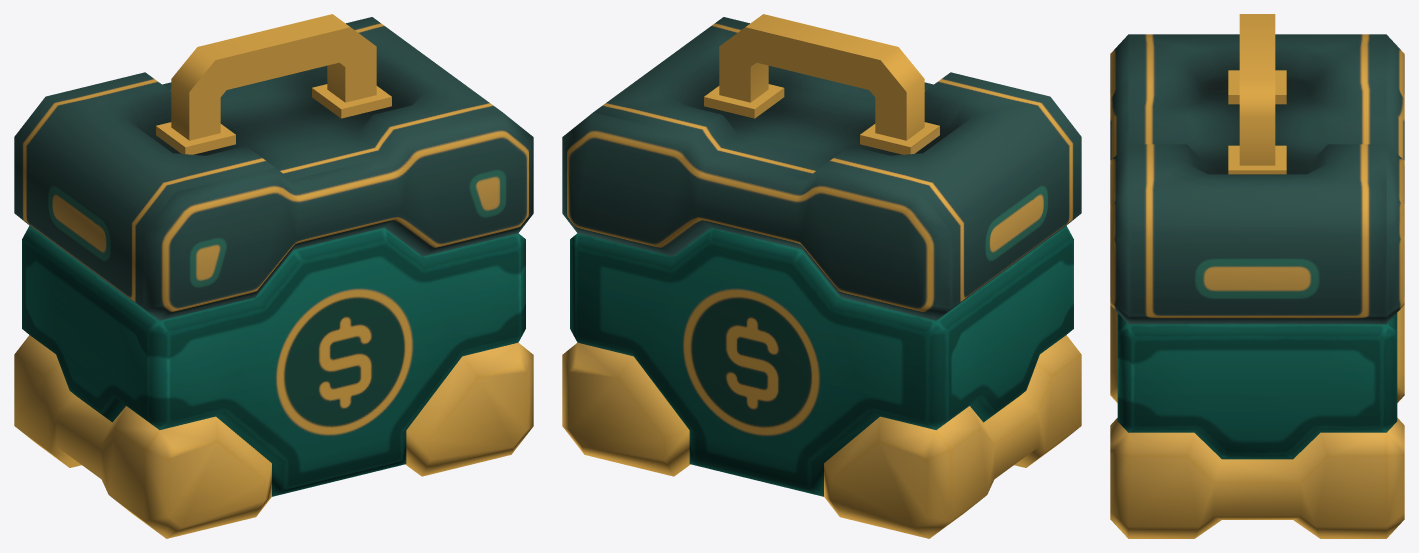
File: official_cashbox.glb
The picture shows the model from 3 angles, left to right: view 1: azimuth 30°, elevation 25°; view 2: azimuth 150°, elevation 25°; view 3: azimuth 270°, elevation 25°; orthographic projection.
Parts seen in each view (by area): view 1: cash_lux; view 2: cash_lux; view 3: cash_lux.
Part boxes in pixels (x1=…): cash_lux: x1=14, y1=14, x2=533, y2=538; cash_lux: x1=562, y1=14, x2=1081, y2=538; cash_lux: x1=1110, y1=14, x2=1404, y2=538.
Size of the model in its own units: 35.45 by 35.85 by 23.37.
Materials: 1 (1 with a texture image).
